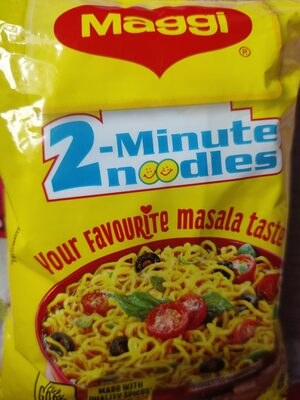2-minute noodles masala taste: (15, 20, 285, 380)
